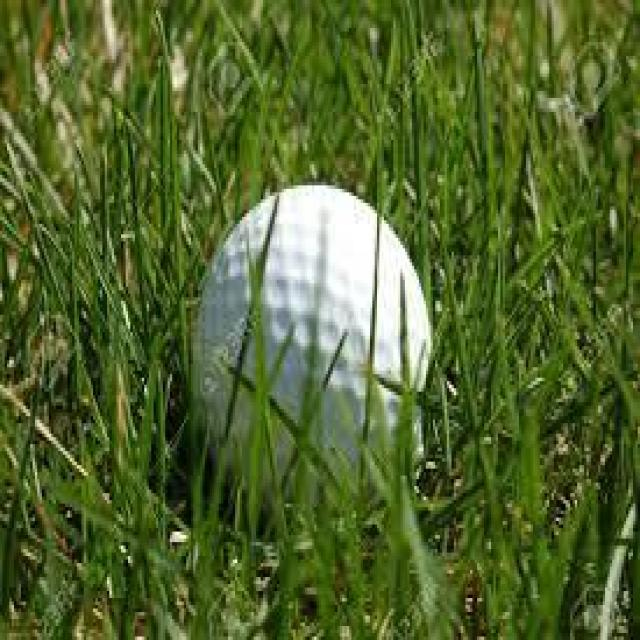golfball: (182, 168, 435, 514)
